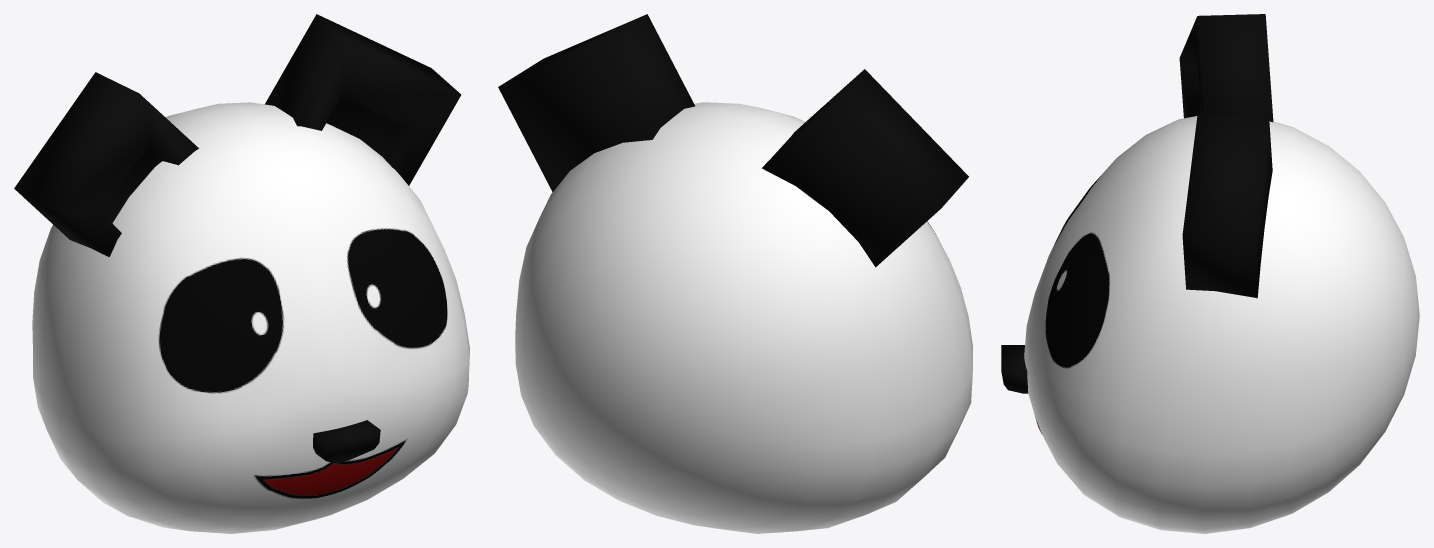
File: panda_excited.gltf
The picture shows the model from 3 angles, left to right: view 1: azimuth 30°, elevation 25°; view 2: azimuth 150°, elevation 25°; view 3: azimuth 270°, elevation 25°; orthographic projection. The views are drawn at different scales.
Parts seen in each view (by area): view 1: Sphere.057, Cube.152, Cube.153, Cube.151; view 2: Sphere.057, Cube.153, Cube.152; view 3: Sphere.057, Cube.152, Cube.153, Cube.151.
Boxes of the visible parts, x1,y1,x2,y2 form: Sphere.057: (32, 102, 469, 533); Cube.152: (265, 14, 461, 185); Cube.153: (14, 72, 198, 257); Cube.151: (313, 420, 380, 463); Sphere.057: (515, 102, 972, 533); Cube.153: (762, 69, 968, 267); Cube.152: (498, 14, 694, 191); Sphere.057: (1024, 116, 1419, 533); Cube.152: (1182, 112, 1272, 298); Cube.153: (1179, 14, 1273, 122); Cube.151: (1001, 345, 1028, 393).
Bounding box in the file's own units: 1.47 × 1.49 × 1.31.
Materials: 2 (1 with a texture image).
